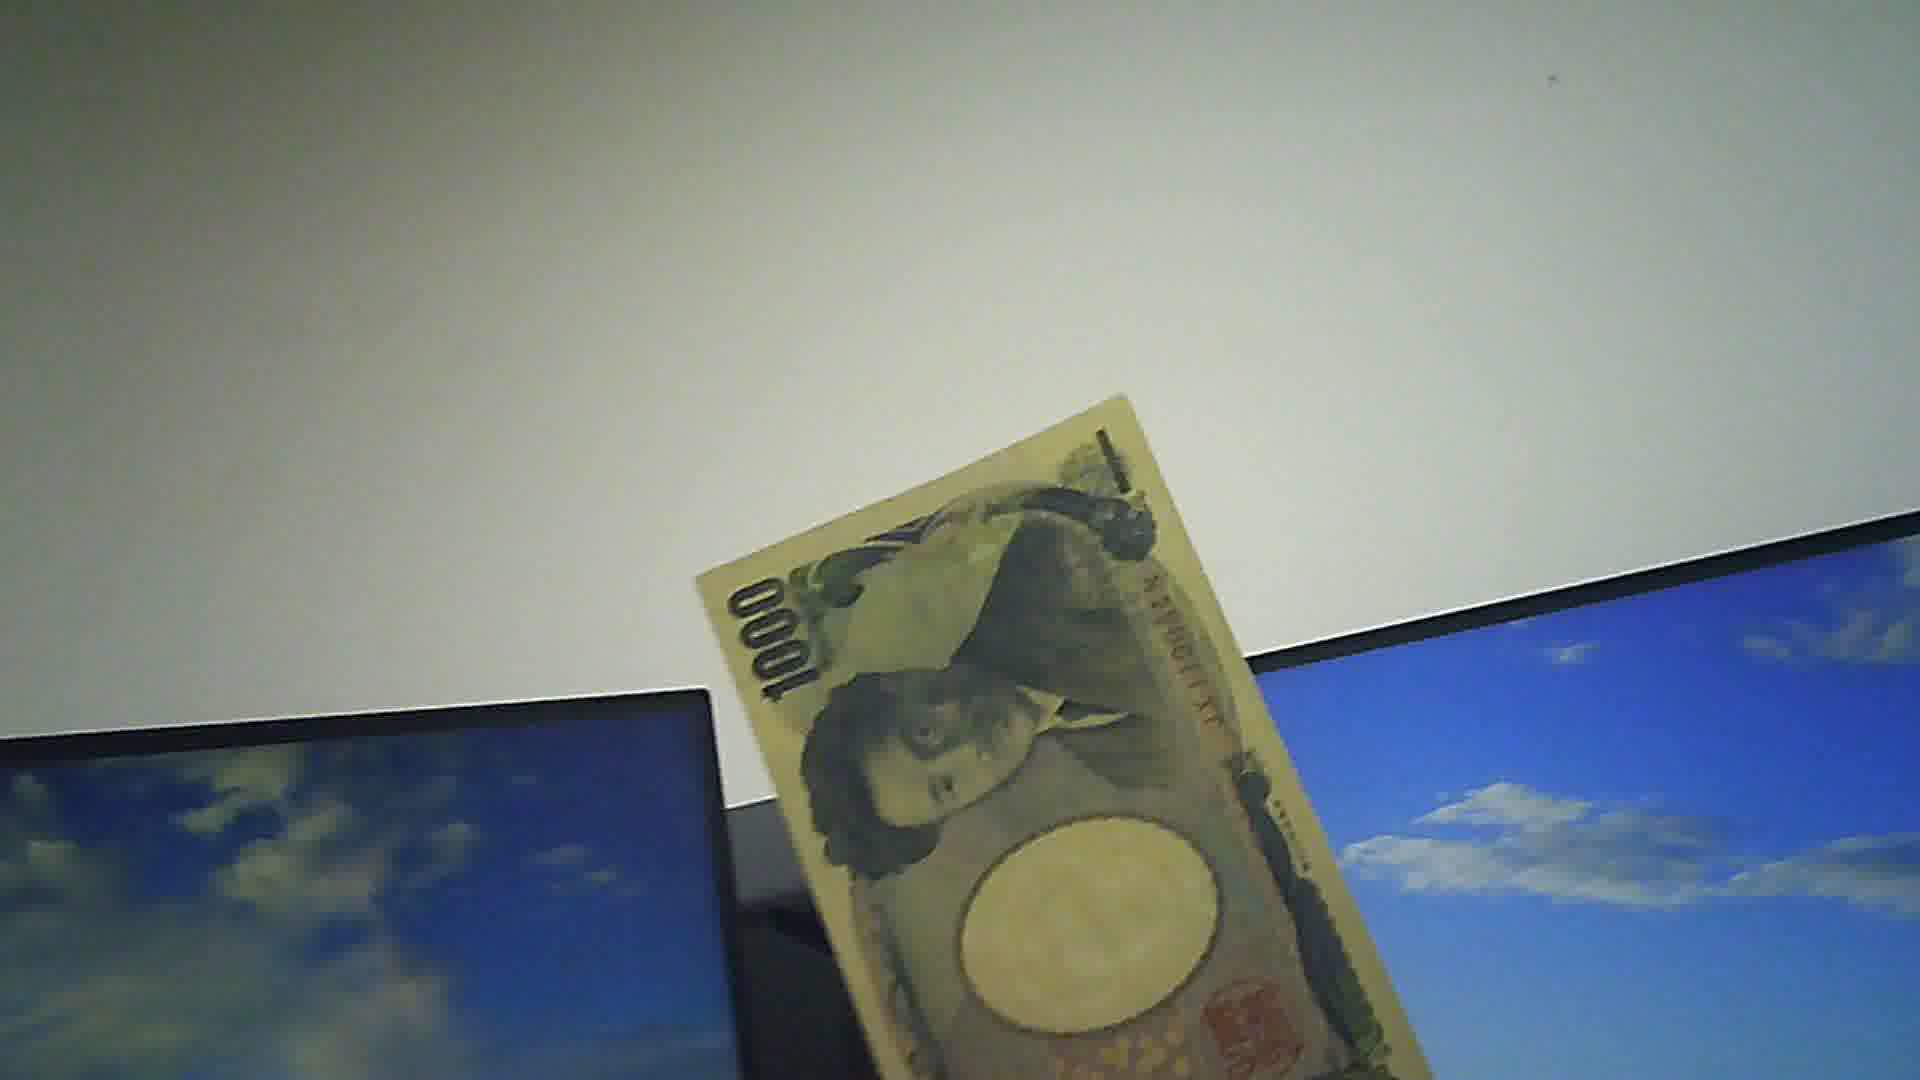1,000 Yen: (646, 382, 1400, 1079)
